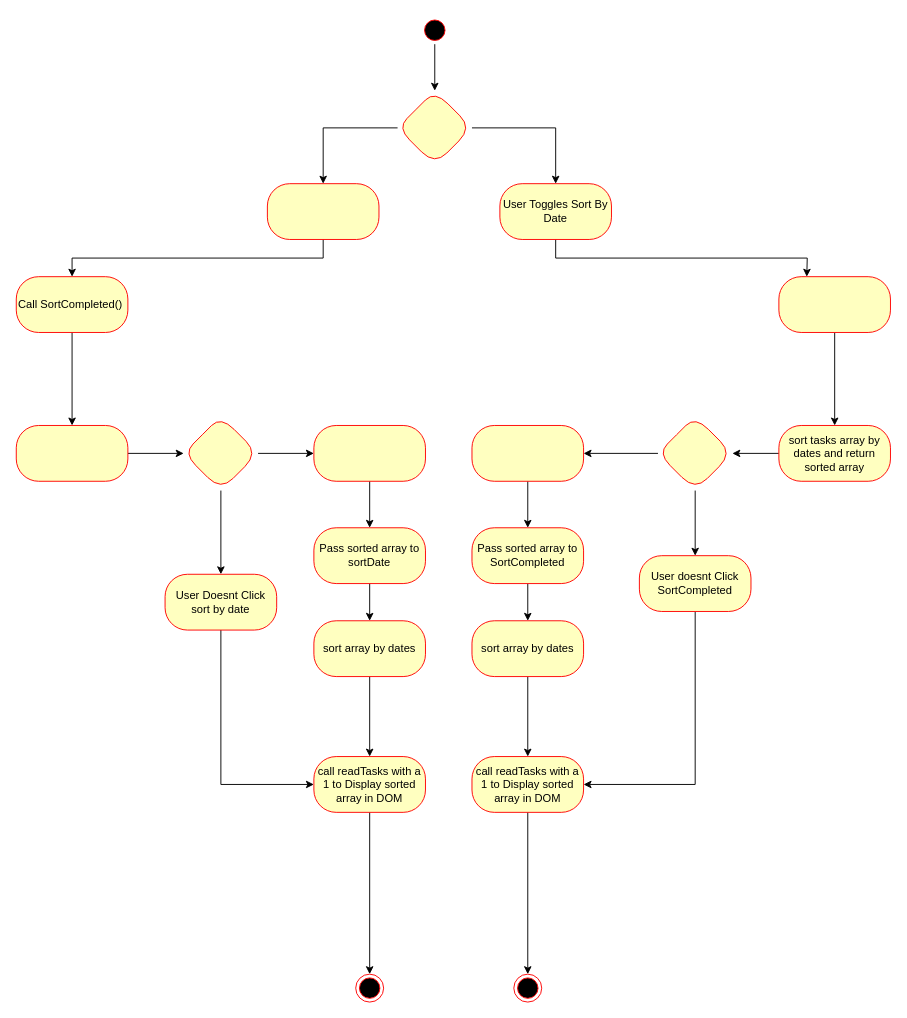
Image size: 907x1018. Some labels were removed from this diagram. Here are the shapes that lost their labels. From the top down, the centre of each, then its label:
At (322,211): "User Toggles Filter Completed".
At (834,304): "Call SortDates()".
At (71,453): "sort tasks array by done status and return sorted array".
At (369,453): "User clicks Sort By Date".
At (527,453): "User Clicks Sort Completed".
